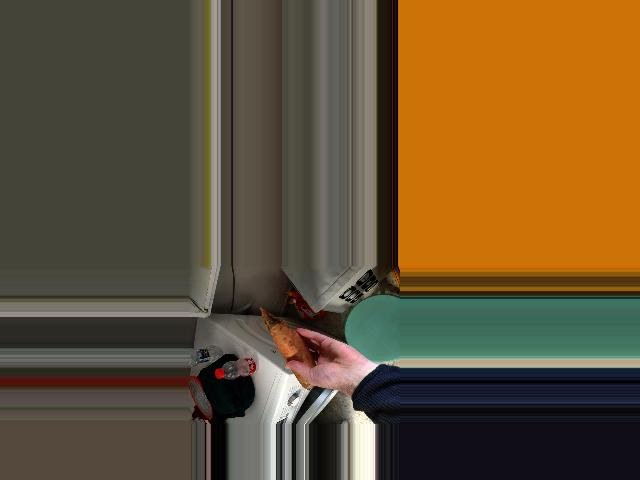sweet_potato: (270, 329, 314, 375)
